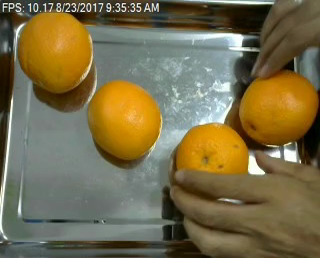Orange: (16, 10, 93, 93), (238, 69, 319, 144), (88, 78, 162, 159), (175, 120, 249, 185)
